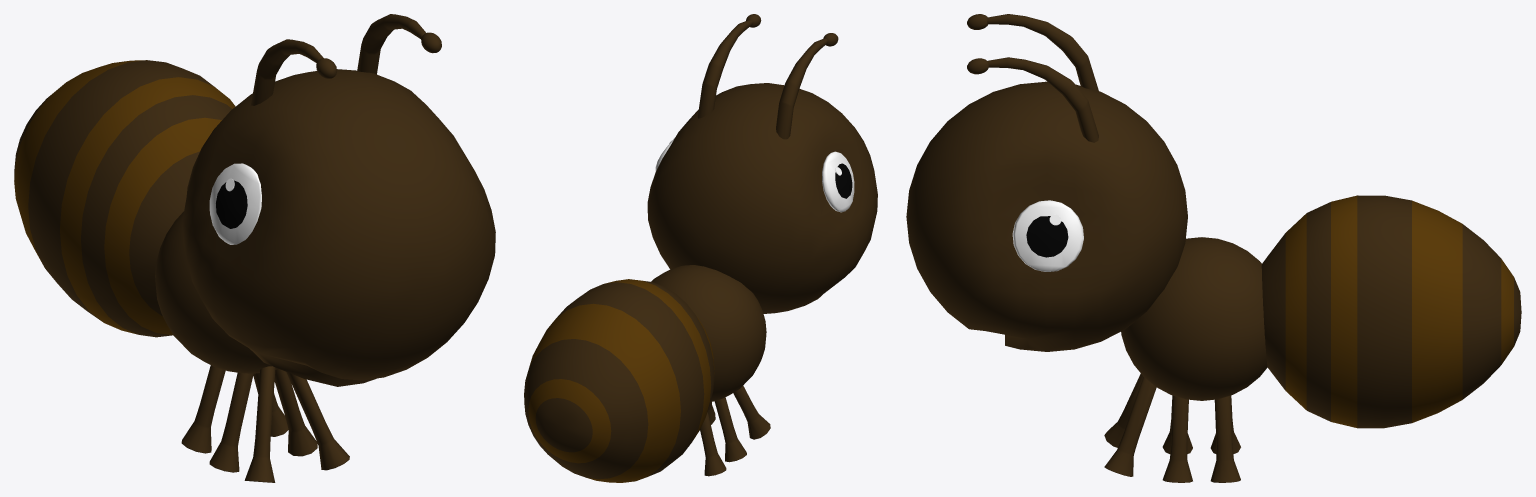
File: ant2.fbx
3 views of the same model, side by side, from view 1: azimuth 30°, elevation 25°; view 2: azimuth 150°, elevation 25°; view 3: azimuth 270°, elevation 25° (orthographic). The views are drawn at different scales.
Visible parts, largest first — view 1: polySurface14; view 2: polySurface14; view 3: polySurface14.
Part boxes in pixels (left/top/right/bottom): polySurface14: left=14, top=14, right=495, bottom=482; polySurface14: left=524, top=14, right=877, bottom=482; polySurface14: left=906, top=14, right=1521, bottom=482.
Bounding box in the file's own units: 82.62 × 152 × 196.
